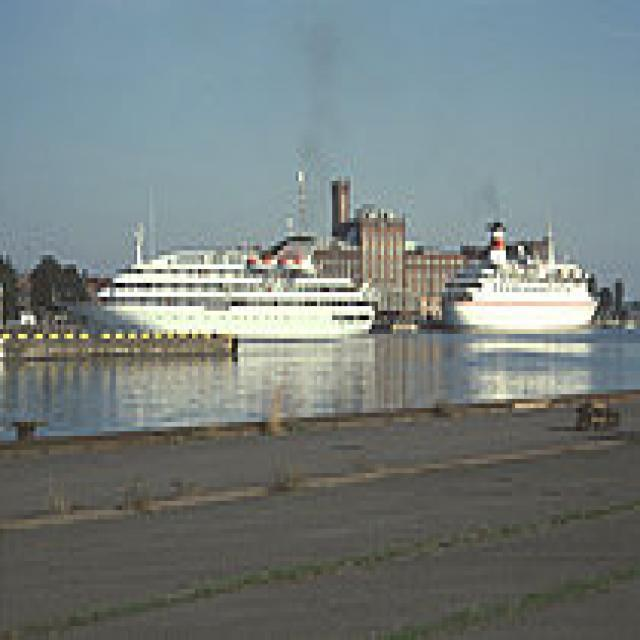Ship: (71, 210, 391, 359), (434, 205, 607, 349)
